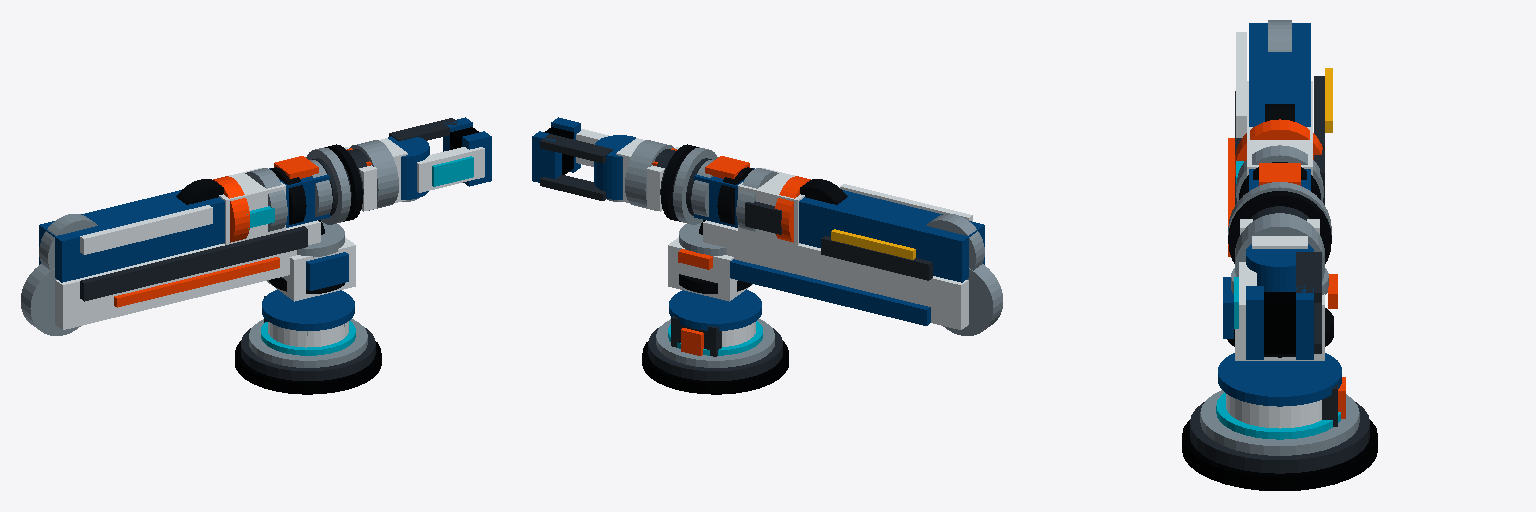
robot.urdf — marm_z1_style:
<?xml version="1.0" ?>
<!-- =================================================================================== -->
<!-- |    This document was autogenerated by xacro from src/marm_description/urdf/marm_z1_style_course_variant.xacro | -->
<!-- |    EDITING THIS FILE BY HAND IS NOT RECOMMENDED                                 | -->
<!-- =================================================================================== -->
<robot name="marm_z1_style">
  <!-- Z1-inspired visual language, using the current project's palette and primitives. -->
  <material name="Graphite">
    <color rgba="0.055 0.070 0.085 1"/>
  </material>
  <material name="Gunmetal">
    <color rgba="0.16 0.19 0.22 1"/>
  </material>
  <material name="PearlWhite">
    <color rgba="0.88 0.91 0.93 1"/>
  </material>
  <material name="Aluminium">
    <color rgba="0.52 0.58 0.62 1"/>
  </material>
  <material name="OceanBlue">
    <color rgba="0.02 0.30 0.52 1"/>
  </material>
  <material name="ElectricCyan">
    <color rgba="0.00 0.72 0.82 1"/>
  </material>
  <material name="SafetyOrange">
    <color rgba="1.00 0.30 0.035 1"/>
  </material>
  <material name="SignalYellow">
    <color rgba="1.00 0.73 0.06 1"/>
  </material>
  <material name="RubberBlack">
    <color rgba="0.018 0.022 0.026 1"/>
  </material>
  <!-- Base and shoulder motor module -->
  <link name="marm_z1_base_link">
    <visual>
      <origin rpy="0 0 0" xyz="0 0 -0.006"/>
      <geometry>
        <cylinder length="0.012" radius="0.074"/>
      </geometry>
      <material name="RubberBlack"/>
    </visual>
    <visual>
      <origin rpy="0 0 0" xyz="0 0 0.004"/>
      <geometry>
        <cylinder length="0.014" radius="0.068"/>
      </geometry>
      <material name="Gunmetal"/>
    </visual>
    <visual>
      <origin rpy="0 0 0" xyz="0 0 0.015"/>
      <geometry>
        <cylinder length="0.008" radius="0.06"/>
      </geometry>
      <material name="Aluminium"/>
    </visual>
    <visual>
      <origin rpy="0 0 0" xyz="0 0 0.022"/>
      <geometry>
        <cylinder length="0.006" radius="0.048"/>
      </geometry>
      <material name="ElectricCyan"/>
    </visual>
  </link>
  <joint name="marm_z1_base_joint" type="fixed">
    <origin rpy="0 0 0" xyz="0 0 0.025"/>
    <parent link="marm_z1_base_link"/>
    <child link="marm_z1_link00"/>
  </joint>
  <link name="marm_z1_link00">
    <visual>
      <origin rpy="0 0 0" xyz="0 0 0"/>
      <geometry>
        <cylinder length="0.046" radius="0.041"/>
      </geometry>
      <material name="PearlWhite"/>
    </visual>
    <visual>
      <origin rpy="0 0 0" xyz="0 0 -0.025"/>
      <geometry>
        <cylinder length="0.008" radius="0.047"/>
      </geometry>
      <material name="Graphite"/>
    </visual>
    <visual>
      <origin rpy="0 0 0" xyz="0 0 0.025"/>
      <geometry>
        <cylinder length="0.008" radius="0.047"/>
      </geometry>
      <material name="OceanBlue"/>
    </visual>
    <visual>
      <origin rpy="0 0 0" xyz="0 0.030 0"/>
      <geometry>
        <box size="0.052 0.028 0.052"/>
      </geometry>
      <material name="Gunmetal"/>
    </visual>
    <visual>
      <origin rpy="0 0 0" xyz="0 0.046 0"/>
      <geometry>
        <box size="0.024 0.008 0.036"/>
      </geometry>
      <material name="SafetyOrange"/>
    </visual>
    <visual>
      <origin rpy="0 0 0" xyz="0 -0.031 0.018"/>
      <geometry>
        <box size="0.044 0.008 0.010"/>
      </geometry>
      <material name="Aluminium"/>
    </visual>
    <collision>
      <origin rpy="0 0 0" xyz="0 0 0"/>
      <geometry>
        <cylinder length="0.050" radius="0.033"/>
      </geometry>
    </collision>
    <inertial>
      <mass value="0.48"/>
      <inertia ixx="0.00023068000000000003" ixy="0" ixz="0" iyy="0.00023068000000000003" iyz="0" izz="0.00026136000000000003"/>
    </inertial>
  </link>
  <joint name="marm_z1_joint1" type="revolute">
    <origin rpy="0 0 0" xyz="0 0 0.055"/>
    <parent link="marm_z1_link00"/>
    <child link="marm_z1_link01"/>
    <axis xyz="0 0 1"/>
    <limit effort="30" lower="-2.61799" upper="2.61799" velocity="3.14"/>
  </joint>
  <!-- Shoulder housing -->
  <link name="marm_z1_link01">
    <visual>
      <origin rpy="0 0 0" xyz="0 0 0.022"/>
      <geometry>
        <box size="0.072 0.068 0.046"/>
      </geometry>
      <material name="PearlWhite"/>
    </visual>
    <visual>
      <origin rpy="0 0 0" xyz="0 0 0.010"/>
      <geometry>
        <cylinder length="0.012" radius="0.041"/>
      </geometry>
      <material name="Graphite"/>
    </visual>
    <visual>
      <origin rpy="0 0 0" xyz="0 0 0.048"/>
      <geometry>
        <cylinder length="0.01" radius="0.037"/>
      </geometry>
      <material name="Aluminium"/>
    </visual>
    <visual>
      <origin rpy="0 0 0" xyz="0 -0.039 0.026"/>
      <geometry>
        <box size="0.046 0.008 0.030"/>
      </geometry>
      <material name="OceanBlue"/>
    </visual>
    <visual>
      <origin rpy="0 0 0" xyz="0 0.040 0.040"/>
      <geometry>
        <box size="0.036 0.008 0.012"/>
      </geometry>
      <material name="SafetyOrange"/>
    </visual>
    <collision>
      <origin rpy="0 0 0" xyz="0 0 0.022"/>
      <geometry>
        <box size="0.060 0.060 0.045"/>
      </geometry>
    </collision>
    <inertial>
      <mass value="0.62"/>
      <inertia ixx="0.000290625" ixy="0" ixz="0" iyy="0.000290625" iyz="0" izz="0.000372"/>
    </inertial>
  </link>
  <joint name="marm_z1_joint2" type="revolute">
    <origin rpy="0 0 0" xyz="0 0 0.050"/>
    <parent link="marm_z1_link01"/>
    <child link="marm_z1_link02"/>
    <axis xyz="0 1 0"/>
    <limit effort="60" lower="0" upper="2.96706" velocity="3.14"/>
  </joint>
  <!-- Long offset upper arm, with exposed side rails like the Z1 silhouette -->
  <link name="marm_z1_link02">
    <visual>
      <origin rpy="0 0 0" xyz="-0.15 0 0"/>
      <geometry>
        <box size="0.3 0.050 0.050"/>
      </geometry>
      <material name="PearlWhite"/>
    </visual>
    <visual>
      <origin rpy="0 0 0" xyz="-0.15 -0.030 0.016"/>
      <geometry>
        <box size="0.260 0.008 0.020"/>
      </geometry>
      <material name="Gunmetal"/>
    </visual>
    <visual>
      <origin rpy="0 0 0" xyz="-0.15 0.030 -0.016"/>
      <geometry>
        <box size="0.230 0.008 0.018"/>
      </geometry>
      <material name="OceanBlue"/>
    </visual>
    <visual>
      <origin rpy="0 0 0" xyz="-0.15 -0.036 -0.002"/>
      <geometry>
        <box size="0.190 0.006 0.010"/>
      </geometry>
      <material name="SafetyOrange"/>
    </visual>
    <visual>
      <origin rpy="1.5707963267948966 0 0" xyz="-0.025 0 0"/>
      <geometry>
        <cylinder length="0.02" radius="0.039"/>
      </geometry>
      <material name="Graphite"/>
    </visual>
    <visual>
      <origin rpy="1.5707963267948966 0 0" xyz="-0.29 0 0"/>
      <geometry>
        <cylinder length="0.02" radius="0.039"/>
      </geometry>
      <material name="Aluminium"/>
    </visual>
    <collision>
      <origin rpy="0 1.5707963267948966 0" xyz="-0.15 0 0"/>
      <geometry>
        <cylinder length="0.3" radius="0.023"/>
      </geometry>
    </collision>
    <inertial>
      <mass value="1.18"/>
      <inertia ixx="0.009006055" ixy="0" ixz="0" iyy="0.009006055" iyz="0" izz="0.00031211"/>
    </inertial>
  </link>
  <joint name="marm_z1_joint3" type="revolute">
    <origin rpy="0 0 0" xyz="-0.3 0 0"/>
    <parent link="marm_z1_link02"/>
    <child link="marm_z1_link03"/>
    <axis xyz="0 1 0"/>
    <limit effort="30" lower="-2.87979" upper="0" velocity="3.14"/>
  </joint>
  <!-- Return arm and elbow motor shell -->
  <link name="marm_z1_link03">
    <visual>
      <origin rpy="0 0 0" xyz="0.095 0 0.050"/>
      <geometry>
        <box size="0.19 0.046 0.046"/>
      </geometry>
      <material name="OceanBlue"/>
    </visual>
    <visual>
      <origin rpy="0 0 0" xyz="0.095 -0.029 0.066"/>
      <geometry>
        <box size="0.150 0.008 0.018"/>
      </geometry>
      <material name="PearlWhite"/>
    </visual>
    <visual>
      <origin rpy="0 0 0" xyz="0.095 0.030 0.035"/>
      <geometry>
        <box size="0.125 0.008 0.018"/>
      </geometry>
      <material name="Gunmetal"/>
    </visual>
    <visual>
      <origin rpy="0 0 0" xyz="0.095 0.037 0.053"/>
      <geometry>
        <box size="0.095 0.006 0.010"/>
      </geometry>
      <material name="SignalYellow"/>
    </visual>
    <visual>
      <origin rpy="1.5707963267948966 0 0" xyz="0.026 0 0.050"/>
      <geometry>
        <cylinder length="0.018" radius="0.034"/>
      </geometry>
      <material name="Aluminium"/>
    </visual>
    <visual>
      <origin rpy="1.5707963267948966 0 0" xyz="0.18 0 0.050"/>
      <geometry>
        <cylinder length="0.022" radius="0.036"/>
      </geometry>
      <material name="Graphite"/>
    </visual>
    <collision>
      <origin rpy="0 1.5707963267948966 0" xyz="0.095 0 0.050"/>
      <geometry>
        <cylinder length="0.19" radius="0.020"/>
      </geometry>
    </collision>
    <inertial>
      <mass value="0.82"/>
      <inertia ixx="0.002548833333333333" ixy="0" ixz="0" iyy="0.002548833333333333" iyz="0" izz="0.00016399999999999997"/>
    </inertial>
  </link>
  <joint name="marm_z1_joint4" type="revolute">
    <origin rpy="0 0 0" xyz="0.19 0 0.050"/>
    <parent link="marm_z1_link03"/>
    <child link="marm_z1_link04"/>
    <axis xyz="0 -1 0"/>
    <limit effort="30" lower="-1.51844" upper="1.51844" velocity="3.14"/>
  </joint>
  <!-- Three compact wrist modules -->
  <link name="marm_z1_link04">
    <visual>
      <origin rpy="0 0 0" xyz="0.035 0 0"/>
      <geometry>
        <box size="0.07 0.050 0.050"/>
      </geometry>
      <material name="PearlWhite"/>
    </visual>
    <visual>
      <origin rpy="0 1.5707963267948966 0" xyz="0.014 0 0"/>
      <geometry>
        <cylinder length="0.018" radius="0.034"/>
      </geometry>
      <material name="SafetyOrange"/>
    </visual>
    <visual>
      <origin rpy="0 1.5707963267948966 0" xyz="0.058 0 0"/>
      <geometry>
        <cylinder length="0.018" radius="0.033"/>
      </geometry>
      <material name="Aluminium"/>
    </visual>
    <visual>
      <origin rpy="0 0 0" xyz="0.035 0.030 0"/>
      <geometry>
        <box size="0.042 0.008 0.026"/>
      </geometry>
      <material name="Gunmetal"/>
    </visual>
    <visual>
      <origin rpy="0 0 0" xyz="0.035 -0.030 0"/>
      <geometry>
        <box size="0.034 0.006 0.016"/>
      </geometry>
      <material name="ElectricCyan"/>
    </visual>
    <collision>
      <origin rpy="0 1.5707963267948966 0" xyz="0.035 0 0"/>
      <geometry>
        <cylinder length="0.07" radius="0.026"/>
      </geometry>
    </collision>
    <inertial>
      <mass value="0.55"/>
      <inertia ixx="0.00031753333333333337" ixy="0" ixz="0" iyy="0.00031753333333333337" iyz="0" izz="0.0001859"/>
    </inertial>
  </link>
  <joint name="marm_z1_joint5" type="revolute">
    <origin rpy="0 0 0" xyz="0.07 0 0"/>
    <parent link="marm_z1_link04"/>
    <child link="marm_z1_link05"/>
    <axis xyz="0 0 1"/>
    <limit effort="30" lower="-1.34390" upper="1.34390" velocity="3.14"/>
  </joint>
  <link name="marm_z1_link05">
    <visual>
      <origin rpy="0 0 0" xyz="0.026 0 0"/>
      <geometry>
        <box size="0.052 0.046 0.046"/>
      </geometry>
      <material name="OceanBlue"/>
    </visual>
    <visual>
      <origin rpy="0 1.5707963267948966 0" xyz="0.012 0 0"/>
      <geometry>
        <cylinder length="0.016" radius="0.031"/>
      </geometry>
      <material name="Graphite"/>
    </visual>
    <visual>
      <origin rpy="0 1.5707963267948966 0" xyz="0.043 0 0"/>
      <geometry>
        <cylinder length="0.016" radius="0.03"/>
      </geometry>
      <material name="Aluminium"/>
    </visual>
    <visual>
      <origin rpy="0 0 0" xyz="0.026 0 0.028"/>
      <geometry>
        <box size="0.034 0.032 0.008"/>
      </geometry>
      <material name="SafetyOrange"/>
    </visual>
    <collision>
      <origin rpy="0 1.5707963267948966 0" xyz="0.026 0 0"/>
      <geometry>
        <cylinder length="0.052" radius="0.024"/>
      </geometry>
    </collision>
    <inertial>
      <mass value="0.4"/>
      <inertia ixx="0.00014773333333333334" ixy="0" ixz="0" iyy="0.00014773333333333334" iyz="0" izz="0.00011520000000000001"/>
    </inertial>
  </link>
  <joint name="marm_z1_joint6" type="revolute">
    <origin rpy="0 0 0" xyz="0.052 0 0"/>
    <parent link="marm_z1_link05"/>
    <child link="marm_z1_link06"/>
    <axis xyz="1 0 0"/>
    <limit effort="30" lower="-2.79253" upper="2.79253" velocity="3.14"/>
  </joint>
  <link name="marm_z1_link06">
    <visual>
      <origin rpy="0 1.5707963267948966 0" xyz="0.025 0 0"/>
      <geometry>
        <cylinder length="0.05" radius="0.03"/>
      </geometry>
      <material name="Gunmetal"/>
    </visual>
    <visual>
      <origin rpy="0 1.5707963267948966 0" xyz="0.010 0 0"/>
      <geometry>
        <cylinder length="0.01" radius="0.039"/>
      </geometry>
      <material name="Aluminium"/>
    </visual>
    <visual>
      <origin rpy="0 1.5707963267948966 0" xyz="0.025 0 0"/>
      <geometry>
        <cylinder length="0.008" radius="0.039"/>
      </geometry>
      <material name="Graphite"/>
    </visual>
    <visual>
      <origin rpy="0 0 0" xyz="0.043 0 0"/>
      <geometry>
        <box size="0.016 0.060 0.044"/>
      </geometry>
      <material name="PearlWhite"/>
    </visual>
    <visual>
      <origin rpy="0 0 0" xyz="0.050 0 0.022"/>
      <geometry>
        <box size="0.010 0.040 0.006"/>
      </geometry>
      <material name="SafetyOrange"/>
    </visual>
    <collision>
      <origin rpy="0 1.5707963267948966 0" xyz="0.025 0 0"/>
      <geometry>
        <cylinder length="0.05" radius="0.026"/>
      </geometry>
    </collision>
    <inertial>
      <mass value="0.3"/>
      <inertia ixx="0.00011320000000000003" ixy="0" ixz="0" iyy="0.00011320000000000003" iyz="0" izz="0.00010139999999999998"/>
    </inertial>
  </link>
  <!-- Z1-like asymmetric gripper: fixed stator plus one revolute mover. -->
  <joint name="marm_z1_gripper_stator_joint" type="fixed">
    <!-- Roll the complete gripper: local X-Z opening becomes tool X-Y opening. -->
    <origin rpy="1.5707963267948966 0 0" xyz="0.05 0 0"/>
    <parent link="marm_z1_link06"/>
    <child link="marm_z1_gripper_stator"/>
  </joint>
  <link name="marm_z1_gripper_stator">
    <visual>
      <origin rpy="0 1.5707963267948966 0" xyz="0.012 0 0"/>
      <geometry>
        <cylinder length="0.024" radius="0.034"/>
      </geometry>
      <material name="Aluminium"/>
    </visual>
    <visual>
      <origin rpy="0 0 0" xyz="0.027 0 0"/>
      <geometry>
        <box size="0.030 0.052 0.042"/>
      </geometry>
      <material name="PearlWhite"/>
    </visual>
    <visual>
      <origin rpy="1.5707963267948966 0 0" xyz="0.049 0 0"/>
      <geometry>
        <cylinder length="0.048" radius="0.026"/>
      </geometry>
      <material name="OceanBlue"/>
    </visual>
    <visual>
      <origin rpy="1.5707963267948966 0 0" xyz="0.049 -0.027 0"/>
      <geometry>
        <cylinder length="0.006" radius="0.018"/>
      </geometry>
      <material name="Aluminium"/>
    </visual>
    <visual>
      <origin rpy="0 0 0" xyz="0.087 -0.021 -0.022"/>
      <geometry>
        <box size="0.074 0.008 0.020"/>
      </geometry>
      <material name="Gunmetal"/>
    </visual>
    <visual>
      <origin rpy="0 0 0" xyz="0.087 0.021 -0.022"/>
      <geometry>
        <box size="0.074 0.008 0.020"/>
      </geometry>
      <material name="Gunmetal"/>
    </visual>
    <visual>
      <origin rpy="0 0 0" xyz="0.123 0 -0.019"/>
      <geometry>
        <box size="0.026 0.050 0.014"/>
      </geometry>
      <material name="OceanBlue"/>
    </visual>
    <visual>
      <origin rpy="0 0 0" xyz="0.123 0 -0.006"/>
      <geometry>
        <box size="0.026 0.040 0.012"/>
      </geometry>
      <material name="RubberBlack"/>
    </visual>
    <visual>
      <origin rpy="0 0 0" xyz="0.086 -0.026 -0.022"/>
      <geometry>
        <box size="0.040 0.003 0.006"/>
      </geometry>
      <material name="SafetyOrange"/>
    </visual>
    <collision>
      <origin xyz="0.027 0 0"/>
      <geometry>
        <box size="0.030 0.052 0.042"/>
      </geometry>
    </collision>
    <collision>
      <origin xyz="0.087 -0.021 -0.022"/>
      <geometry>
        <box size="0.074 0.008 0.020"/>
      </geometry>
    </collision>
    <collision>
      <origin xyz="0.087 0.021 -0.022"/>
      <geometry>
        <box size="0.074 0.008 0.020"/>
      </geometry>
    </collision>
    <collision>
      <origin xyz="0.123 0 -0.013"/>
      <geometry>
        <box size="0.026 0.050 0.026"/>
      </geometry>
    </collision>
    <inertial>
      <mass value="0.52"/>
      <inertia ixx="0.00017766666666666668" ixy="0" ixz="0" iyy="0.00045933333333333335" iyz="0" izz="0.0004203333333333334"/>
    </inertial>
  </link>
  <joint name="marm_z1_gripper_joint" type="revolute">
    <origin rpy="0 0 0" xyz="0.049 0 0"/>
    <parent link="marm_z1_gripper_stator"/>
    <child link="marm_z1_gripper_mover"/>
    <axis xyz="0 1 0"/>
    <limit effort="30" lower="-1.5707963267948966" upper="0" velocity="3.14"/>
  </joint>
  <link name="marm_z1_gripper_mover">
    <visual>
      <origin rpy="1.5707963267948966 0 0" xyz="0 0 0"/>
      <geometry>
        <cylinder length="0.044" radius="0.012"/>
      </geometry>
      <material name="Graphite"/>
    </visual>
    <visual>
      <origin rpy="0 0 0" xyz="0.038 0 0.024"/>
      <geometry>
        <box size="0.076 0.032 0.014"/>
      </geometry>
      <material name="PearlWhite"/>
    </visual>
    <visual>
      <origin rpy="0 0 0" xyz="0.074 0 0.019"/>
      <geometry>
        <box size="0.026 0.050 0.014"/>
      </geometry>
      <material name="OceanBlue"/>
    </visual>
    <visual>
      <origin rpy="0 0 0" xyz="0.074 0 0.006"/>
      <geometry>
        <box size="0.026 0.040 0.012"/>
      </geometry>
      <material name="RubberBlack"/>
    </visual>
    <visual>
      <origin rpy="0 0 0" xyz="0.038 0 0.033"/>
      <geometry>
        <box size="0.046 0.022 0.004"/>
      </geometry>
      <material name="ElectricCyan"/>
    </visual>
    <collision>
      <origin xyz="0.038 0 0.024"/>
      <geometry>
        <box size="0.076 0.032 0.014"/>
      </geometry>
    </collision>
    <collision>
      <origin xyz="0.074 0 0.013"/>
      <geometry>
        <box size="0.026 0.050 0.026"/>
      </geometry>
    </collision>
    <inertial>
      <mass value="0.28"/>
      <inertia ixx="8.138666666666666e-05" ixy="0" ixz="0" iyy="0.0002605866666666667" iyz="0" izz="0.00021578666666666668"/>
    </inertial>
  </link>
  <link name="marm_z1_grasping_frame"/>
  <joint name="marm_z1_grasping_frame_joint" type="fixed">
    <origin rpy="0 0 0" xyz="0.120 0 0"/>
    <parent link="marm_z1_gripper_stator"/>
    <child link="marm_z1_grasping_frame"/>
  </joint>
</robot>

--- Facts derived from the render (not from the file) ---
Views: 3 orthographic renders of the robot side by side, from view 1: azimuth 30°, elevation 25°; view 2: azimuth 150°, elevation 25°; view 3: azimuth 270°, elevation 25°.
Model marm_z1_style with 11 links and 10 joints (7 revolute, 3 fixed), rooted at marm_z1_base_link, posed all joints at 0.
Links seen in each view (by area): view 1: marm_z1_link02, marm_z1_link03, marm_z1_base_link, marm_z1_gripper_stator, marm_z1_link00, marm_z1_link04, marm_z1_link01, marm_z1_link06, marm_z1_gripper_mover, marm_z1_link05; view 2: marm_z1_link02, marm_z1_link03, marm_z1_base_link, marm_z1_gripper_stator, marm_z1_link00, marm_z1_link04, marm_z1_link01, marm_z1_link06, marm_z1_link05, marm_z1_gripper_mover; view 3: marm_z1_base_link, marm_z1_link03, marm_z1_gripper_stator, marm_z1_link00, marm_z1_link04, marm_z1_link06, marm_z1_gripper_mover, marm_z1_link01, marm_z1_link05, marm_z1_link02.
Link boxes in pixels (x1=…): marm_z1_link02: x1=21, y1=220, x2=324, y2=335; marm_z1_link03: x1=39, y1=179, x2=224, y2=282; marm_z1_base_link: x1=235, y1=319, x2=381, y2=394; marm_z1_gripper_stator: x1=349, y1=117, x2=477, y2=210; marm_z1_link00: x1=262, y1=289, x2=354, y2=347; marm_z1_link04: x1=213, y1=168, x2=287, y2=244; marm_z1_link01: x1=267, y1=221, x2=355, y2=301; marm_z1_link06: x1=306, y1=144, x2=376, y2=224; marm_z1_gripper_mover: x1=417, y1=131, x2=491, y2=192; marm_z1_link05: x1=269, y1=156, x2=332, y2=227; marm_z1_link02: x1=699, y1=220, x2=1002, y2=335; marm_z1_link03: x1=799, y1=179, x2=984, y2=282; marm_z1_base_link: x1=642, y1=319, x2=788, y2=394; marm_z1_gripper_stator: x1=532, y1=131, x2=674, y2=210; marm_z1_link00: x1=669, y1=289, x2=761, y2=356; marm_z1_link04: x1=736, y1=168, x2=810, y2=244; marm_z1_link01: x1=668, y1=221, x2=752, y2=301; marm_z1_link06: x1=647, y1=144, x2=717, y2=224; marm_z1_link05: x1=691, y1=156, x2=754, y2=227; marm_z1_gripper_mover: x1=546, y1=117, x2=608, y2=172; marm_z1_base_link: x1=1182, y1=390, x2=1377, y2=490; marm_z1_link03: x1=1236, y1=20, x2=1332, y2=149; marm_z1_gripper_stator: x1=1235, y1=213, x2=1324, y2=359; marm_z1_link00: x1=1218, y1=353, x2=1345, y2=428; marm_z1_link04: x1=1235, y1=119, x2=1324, y2=204; marm_z1_link06: x1=1228, y1=182, x2=1331, y2=263; marm_z1_gripper_mover: x1=1234, y1=262, x2=1279, y2=359; marm_z1_link01: x1=1223, y1=268, x2=1337, y2=360; marm_z1_link05: x1=1239, y1=162, x2=1320, y2=199; marm_z1_link02: x1=1228, y1=81, x2=1312, y2=256.
Size in the robot's own frame: 0.527 by 0.148 by 0.231 metres.
Geometry: primitives only (box / cylinder / sphere), no mesh files.
